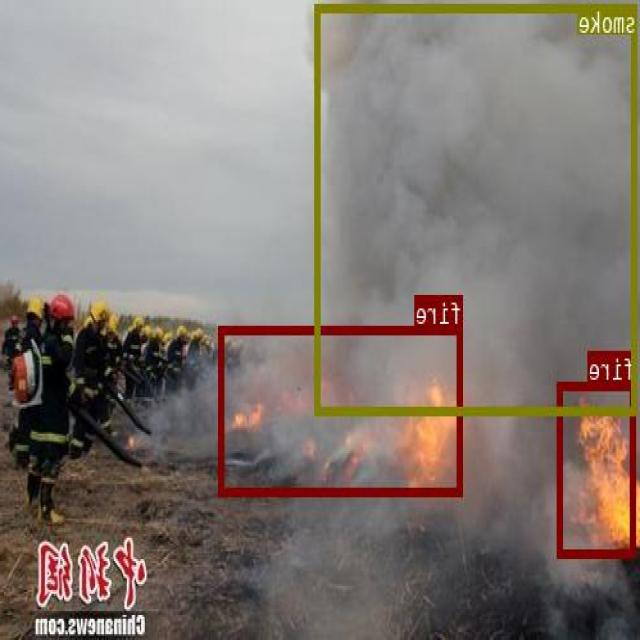fire: (220, 325, 463, 495), (558, 382, 637, 556)
smoke: (316, 3, 638, 414)
